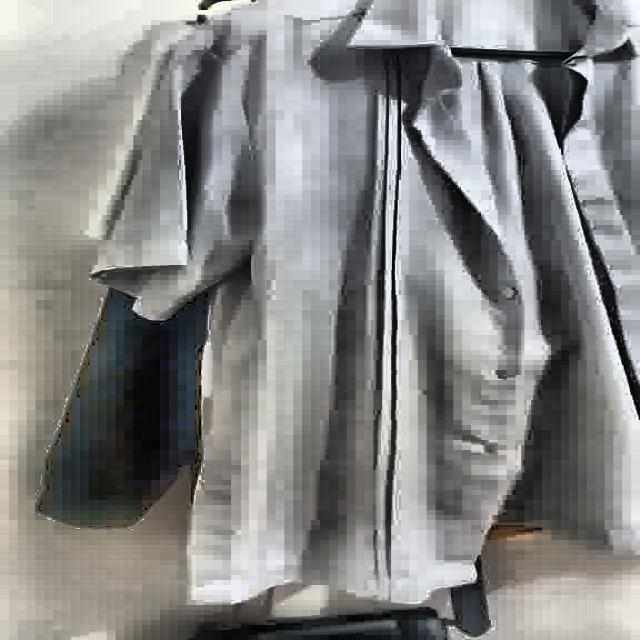clothes: (78, 0, 631, 626)
